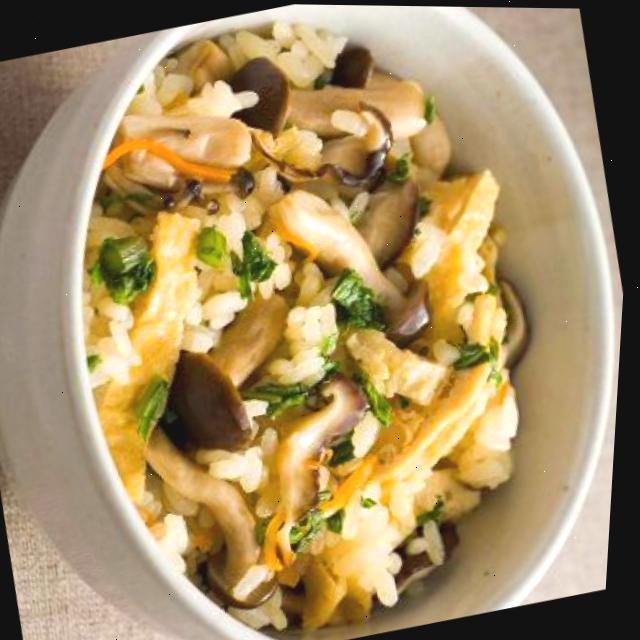米饭主食: (18, 1, 626, 640)
